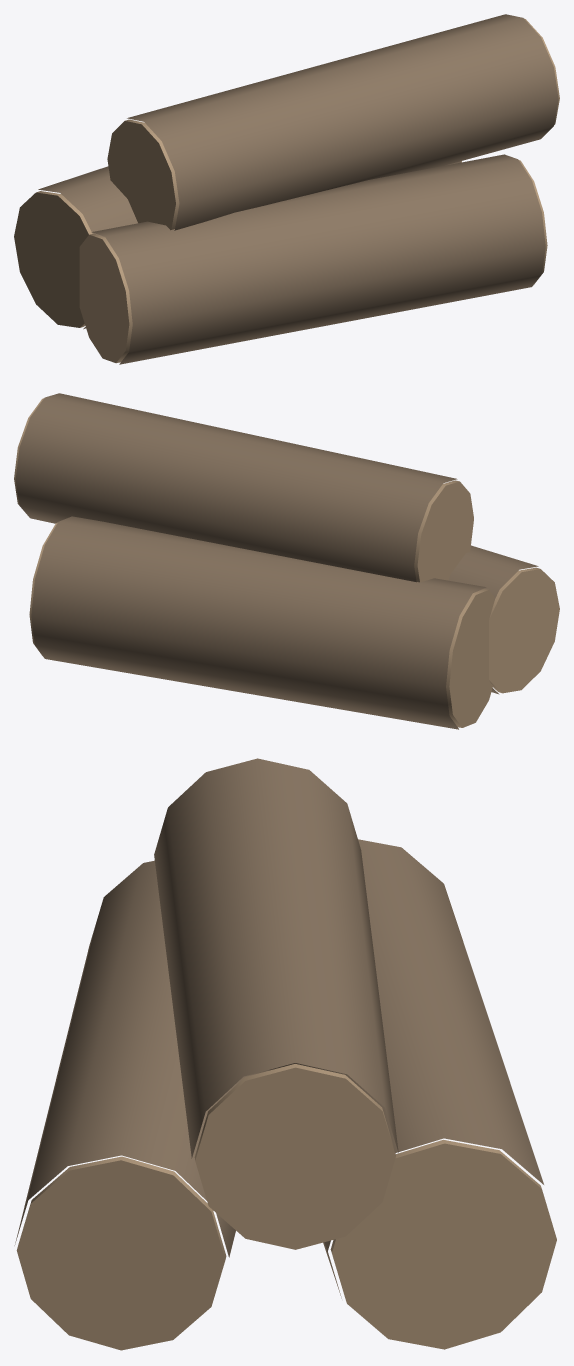
Rendered from res_wood.glb.
3 renders of one model, top to bottom at view 1: azimuth 30°, elevation 25°; view 2: azimuth 150°, elevation 25°; view 3: azimuth 270°, elevation 25°, orthographic. The views are drawn at different scales.
Visible parts, largest first — view 1: Log; view 2: Log; view 3: Log.
Boxes of the visible parts, x1=… form: Log: x1=14, y1=14, x2=559, y2=364; Log: x1=14, y1=393, x2=559, y2=729; Log: x1=14, y1=758, x2=556, y2=1350.
Bounding box in the file's own units: 0.9489 × 0.41 × 0.6056.
